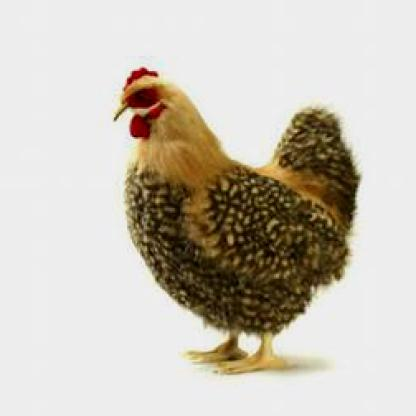chicken: (112, 66, 362, 375)
